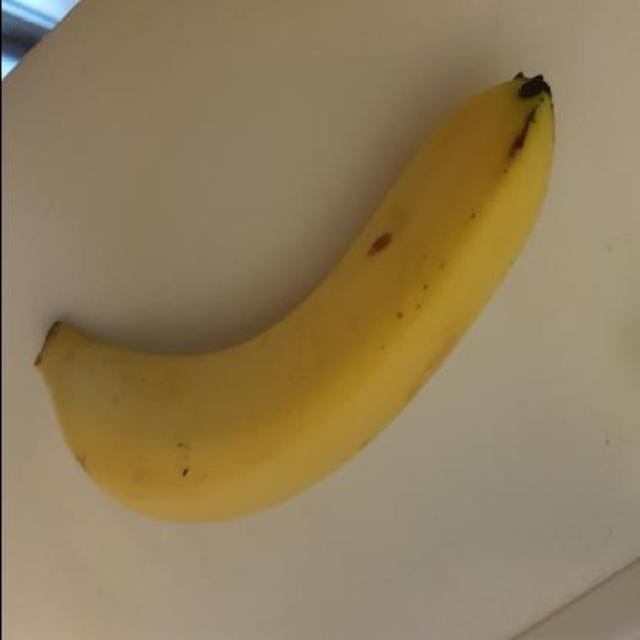Banana: (34, 55, 560, 538)
